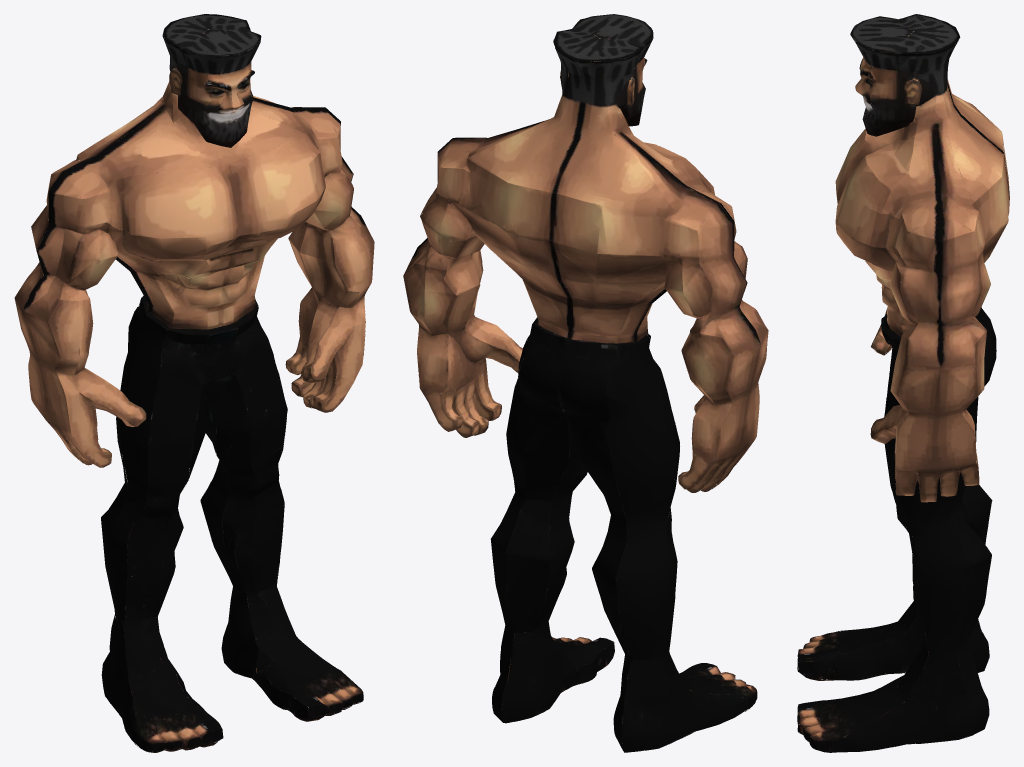
Rendered from Arthur_HeroReference_Full_White_S1337_D80000_Decimate20k.glb.
3 renders of one model, left to right at view 1: azimuth 30°, elevation 25°; view 2: azimuth 150°, elevation 25°; view 3: azimuth 270°, elevation 25°, orthographic.
Parts seen in each view (by area): view 1: geometry_0; view 2: geometry_0; view 3: geometry_0.
Part boxes in pixels (x1,y1,x2,y2): geometry_0: (14, 14, 374, 752); geometry_0: (403, 14, 768, 752); geometry_0: (797, 14, 1009, 752).
Size of the model in its own units: 0.5399 by 1 by 0.2871.
1 material, 1 textured.
